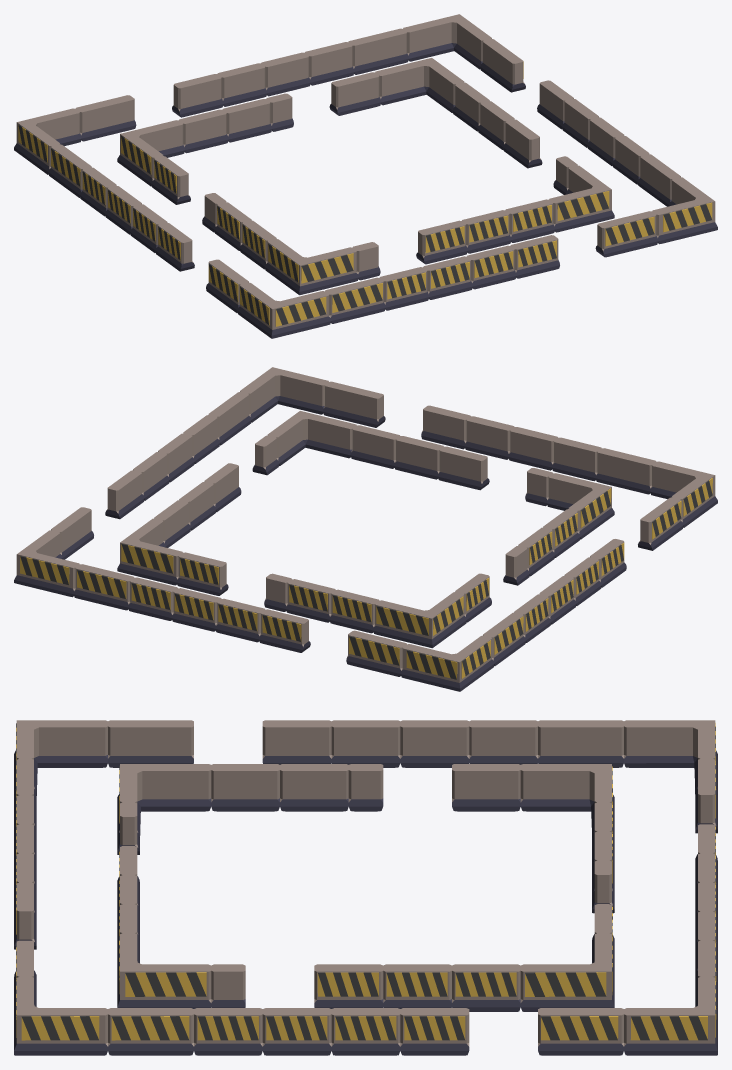
The model's file is MilitaryBaseWalls.fbx.
The picture shows the model from 3 angles, top to bottom: view 1: azimuth 30°, elevation 25°; view 2: azimuth 150°, elevation 25°; view 3: azimuth 270°, elevation 25°; orthographic projection. The views are drawn at different scales.
Parts seen in each view (by area): view 1: Walls; view 2: Walls; view 3: Walls.
Part boxes in pixels (box(x1,y1,x2,y2)): Walls: box(14, 14, 717, 338); Walls: box(14, 367, 717, 691); Walls: box(14, 720, 717, 1055).
Size of the model in its own units: 19.81 by 1.26 by 19.81.
